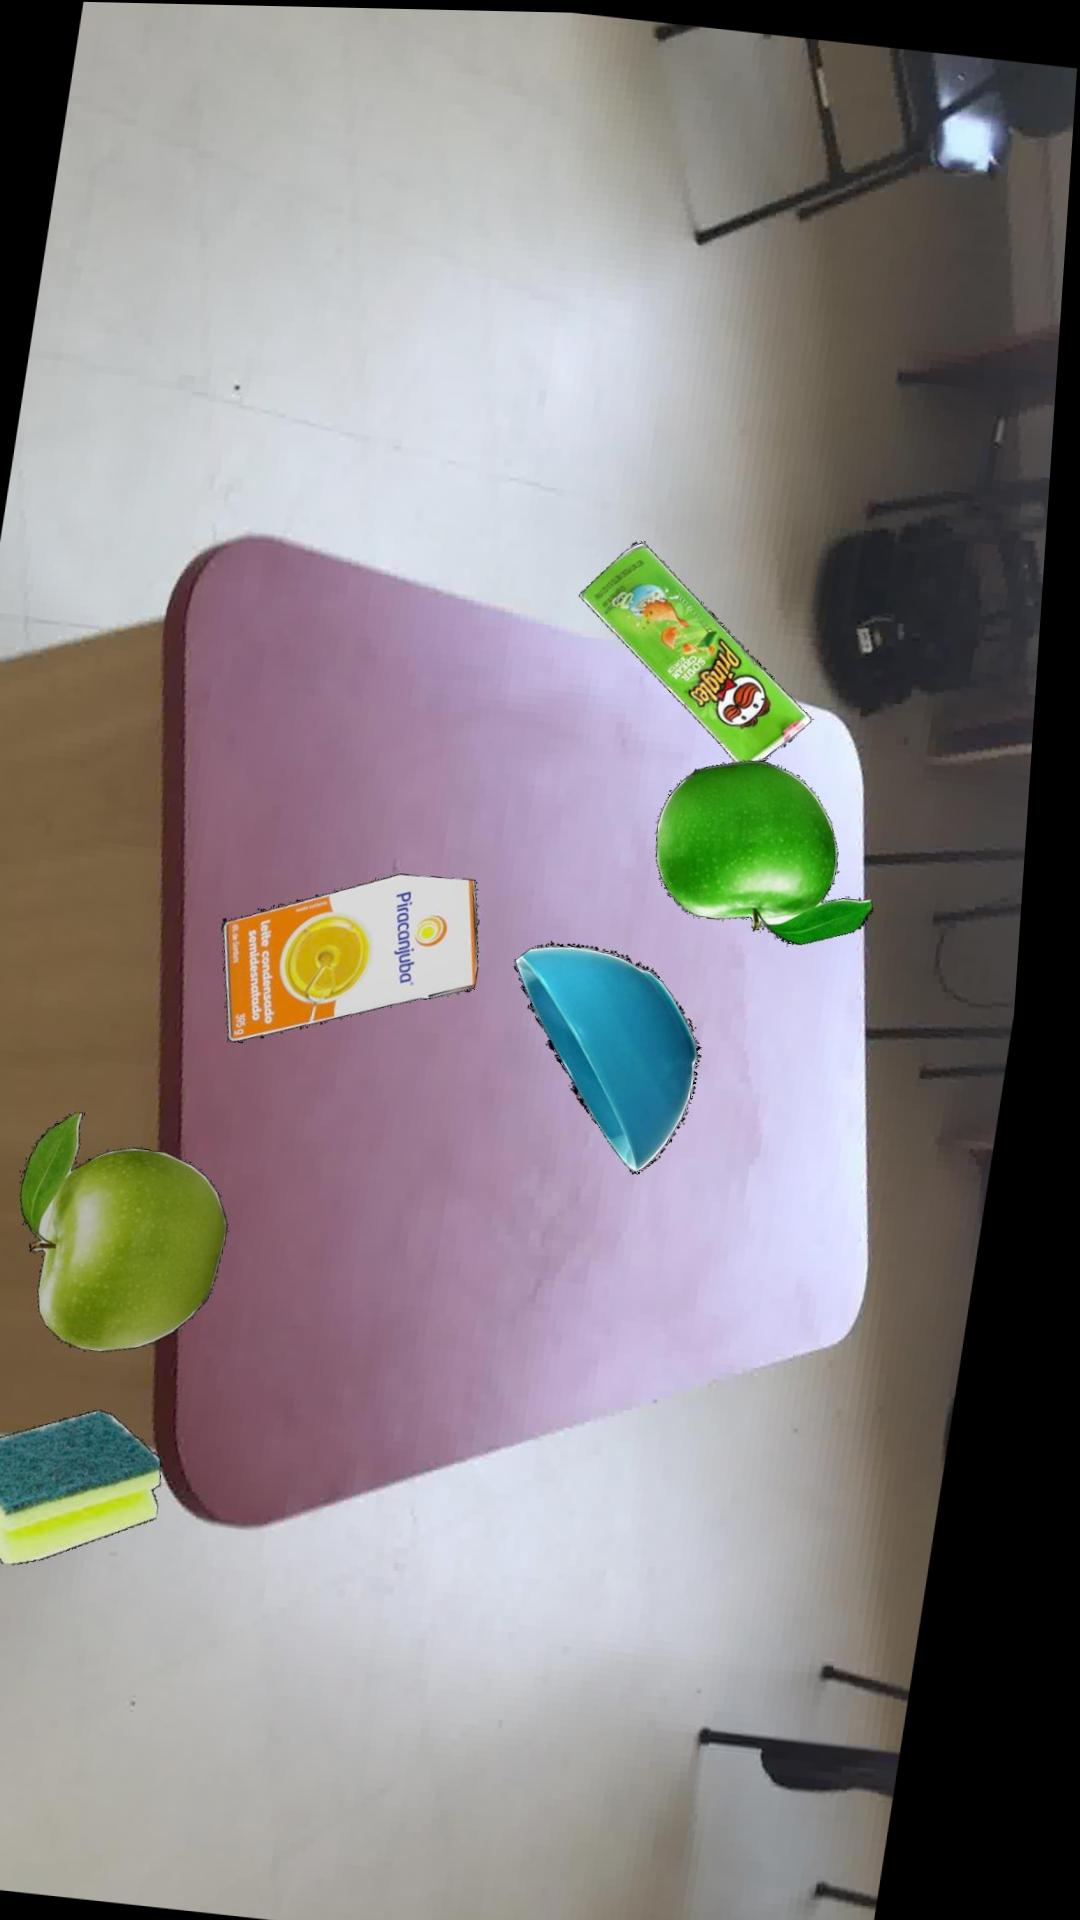bowl: (524, 940, 713, 1171)
green apple: (34, 1112, 243, 1352), (665, 757, 882, 942)
pringles: (584, 539, 818, 758)
sponge: (0, 1410, 178, 1565)
